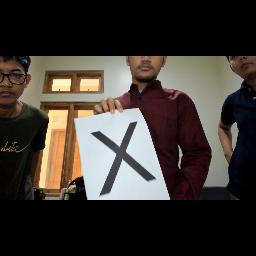x: (76, 117, 162, 197)
